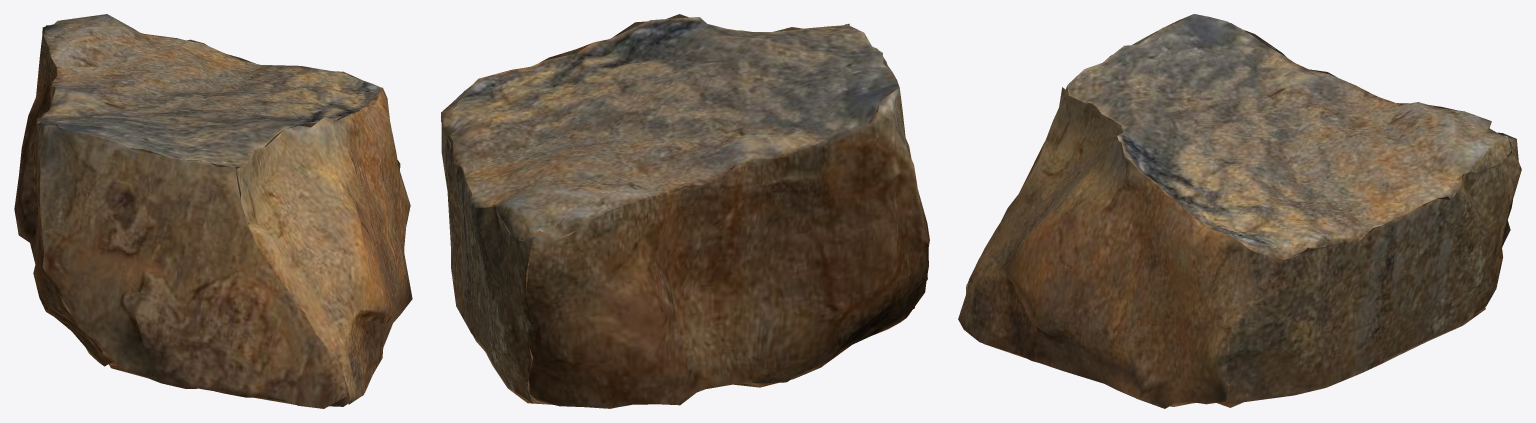
The model's file is boulder_03.glb.
3 renders of one model, left to right at view 1: azimuth 30°, elevation 25°; view 2: azimuth 150°, elevation 25°; view 3: azimuth 270°, elevation 25°, orthographic. The views are drawn at different scales.
Parts seen in each view (by area): view 1: boulder_03; view 2: boulder_03; view 3: boulder_03.
Boxes of the visible parts, x1,y1,x2,y2 form: boulder_03: (14,14,412,408); boulder_03: (441,14,929,408); boulder_03: (958,14,1521,408).
Size of the model in its own units: 1.4 by 0.85 by 1.79.
Materials: 1 (1 with a texture image).
